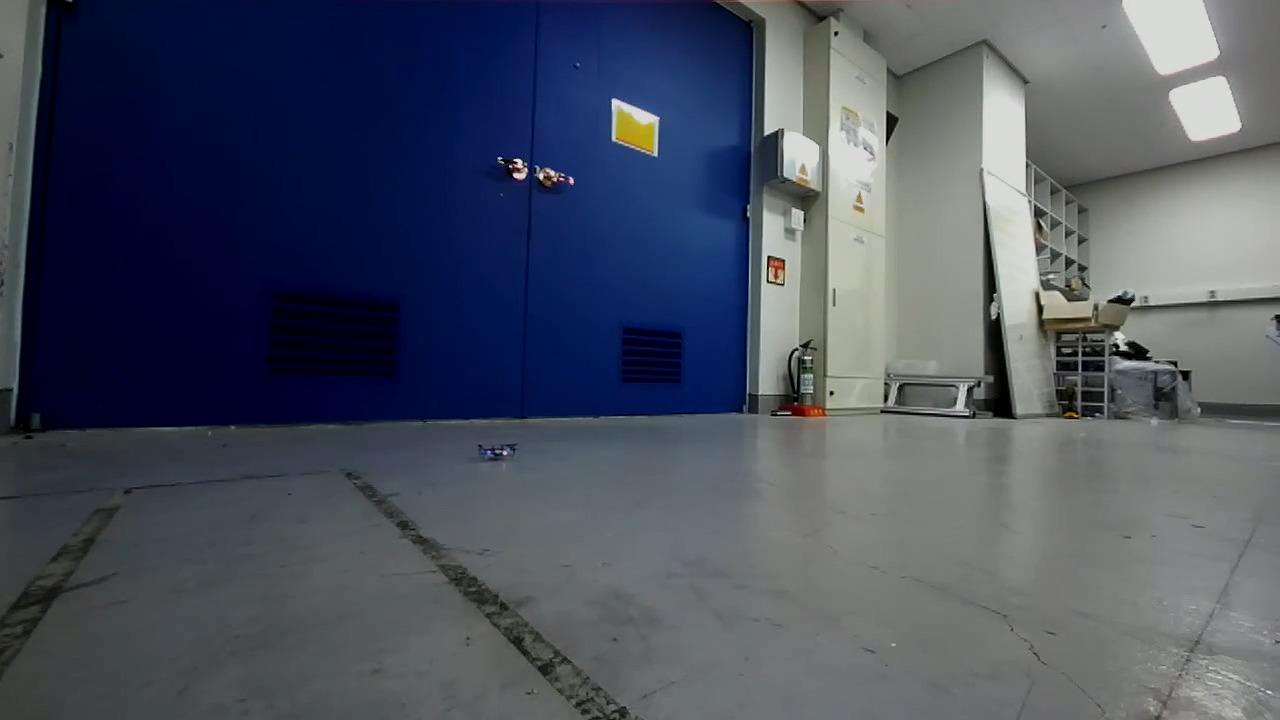crazyflie: (473, 435, 523, 465)
